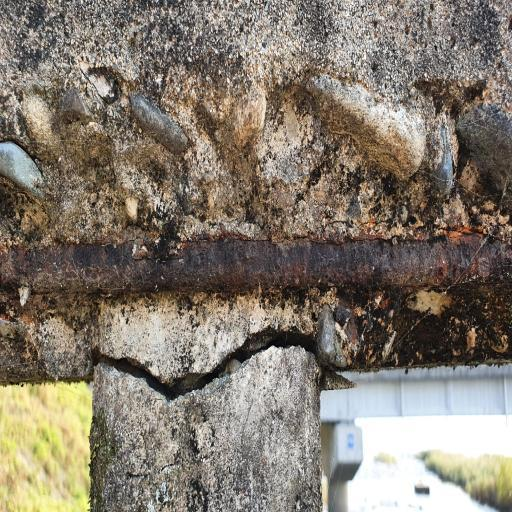exposed_rebar: (0, 235, 512, 295)
spalling: (0, 66, 512, 392)
